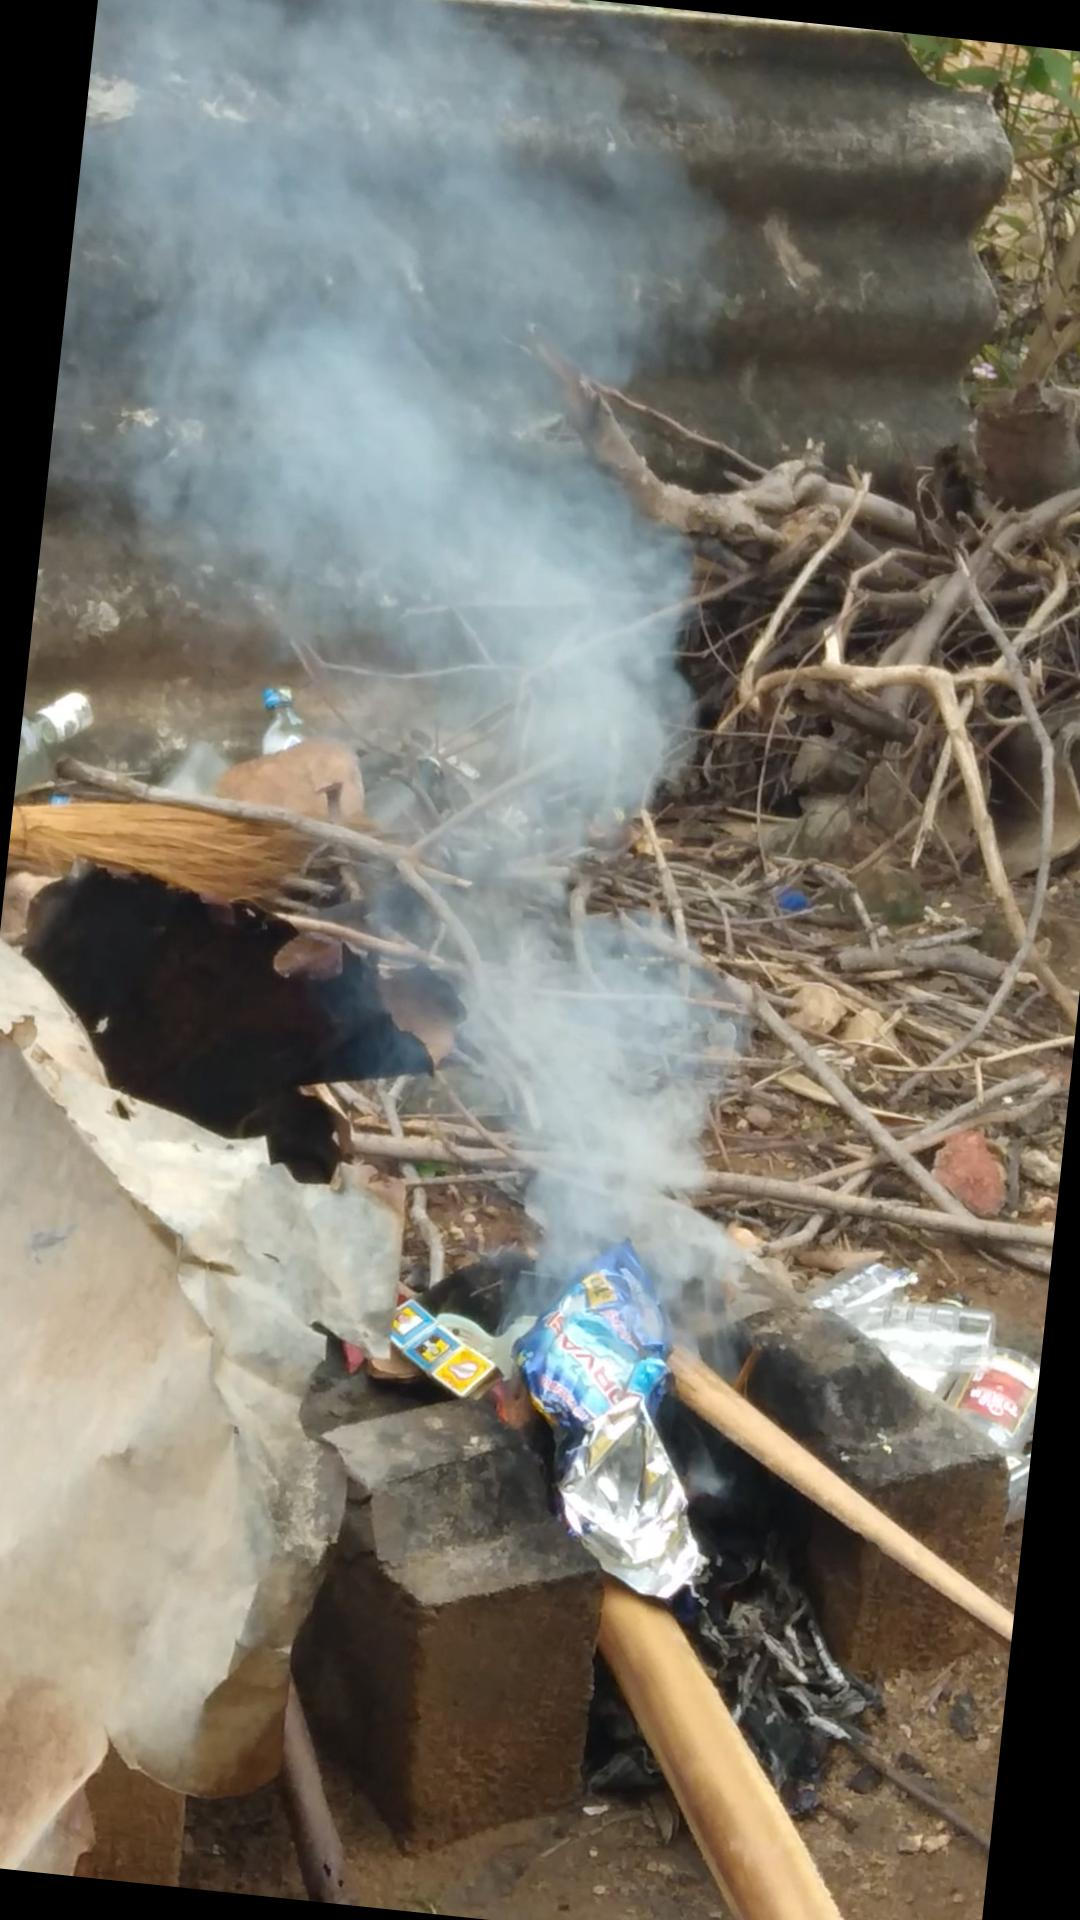Smoke: (0, 0, 885, 1600)
